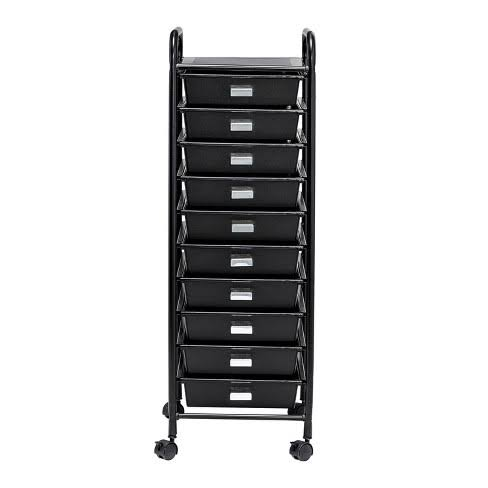Carts: (154, 28, 322, 462)
